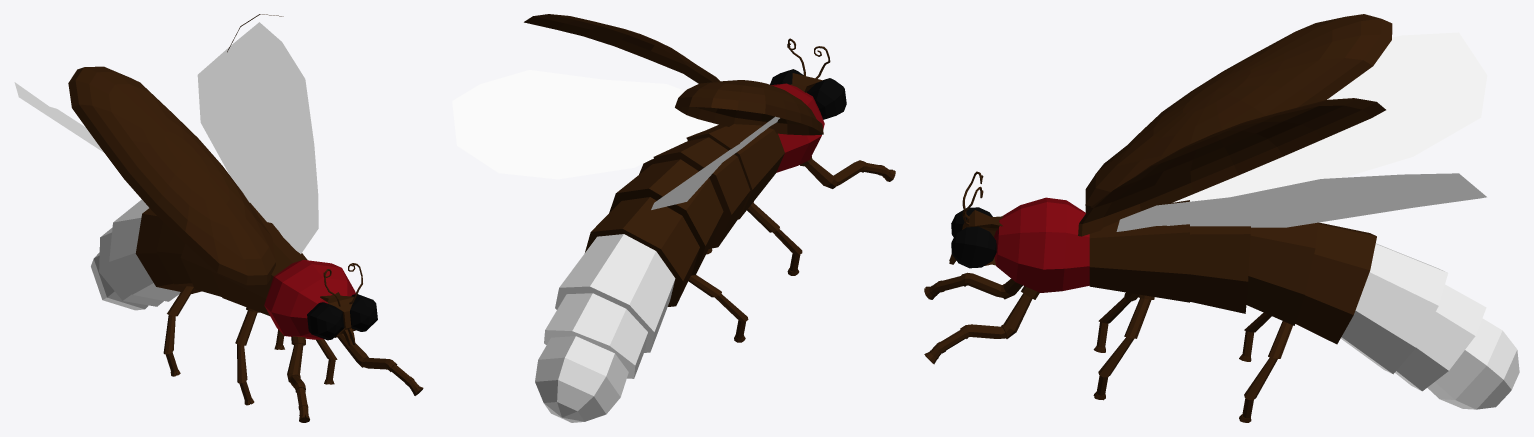
Rendered from FireFly.fbx.
3 renders of one model, left to right at view 1: azimuth 30°, elevation 25°; view 2: azimuth 150°, elevation 25°; view 3: azimuth 270°, elevation 25°, orthographic. The views are drawn at different scales.
Parts seen in each view (by area): view 1: WingsProtector, Wings, Body, GlowingTail, Legs, HeadSupport, Eyes, Head; view 2: Wings, GlowingTail, Body, WingsProtector, Legs, HeadSupport, Eyes; view 3: Wings, WingsProtector, Body, GlowingTail, HeadSupport, Legs, Eyes, Head.
Boxes of the visible parts, x1,y1,x2,y2 form: WingsProtector: (68, 14, 283, 285); Wings: (14, 22, 318, 253); Body: (135, 203, 307, 315); GlowingTail: (91, 199, 180, 310); Legs: (163, 286, 423, 422); HeadSupport: (264, 259, 355, 339); Eyes: (307, 294, 377, 340); Head: (320, 292, 355, 334); Wings: (452, 70, 779, 209); GlowingTail: (535, 234, 675, 422); Body: (585, 124, 784, 306); WingsProtector: (524, 14, 823, 135); Legs: (688, 156, 895, 342); HeadSupport: (771, 83, 824, 172); Eyes: (770, 69, 846, 119); Wings: (1116, 32, 1487, 231); WingsProtector: (1078, 14, 1392, 236); Body: (1089, 200, 1376, 344); GlowingTail: (1340, 243, 1519, 409); HeadSupport: (994, 197, 1089, 292); Legs: (924, 272, 1292, 422); Eyes: (951, 207, 996, 268); Head: (962, 210, 1003, 265).
Bounding box in the file's own units: 175 × 208 × 313.
